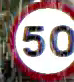Speed limit: (9, 1, 73, 80)
